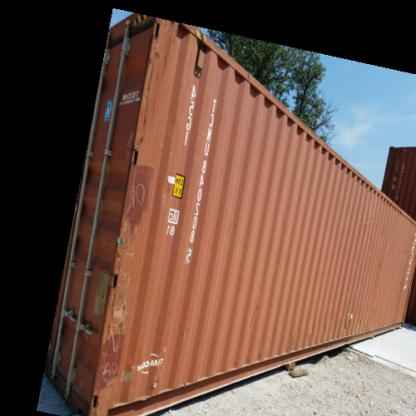Damage: (89, 174, 156, 400), (312, 308, 358, 336), (355, 216, 382, 236)
